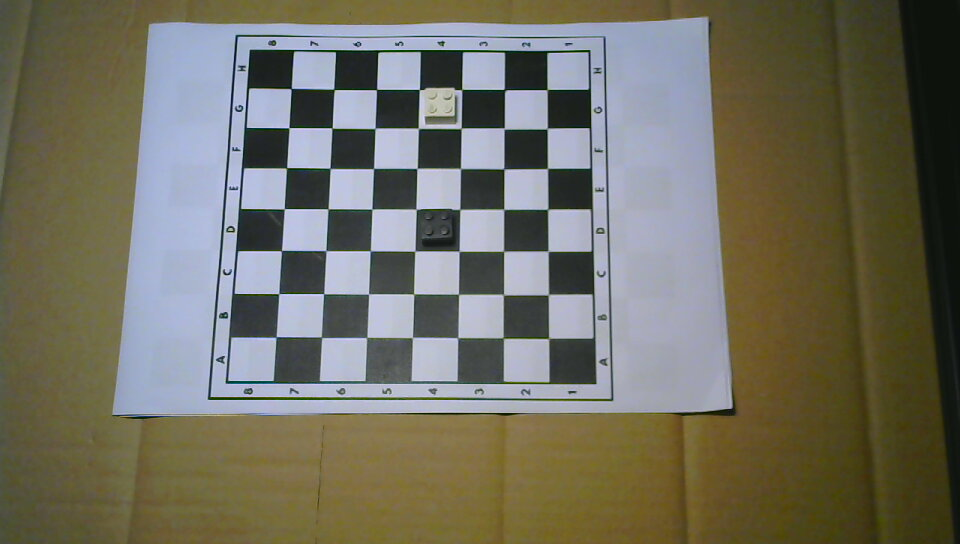bp: (419, 209, 455, 248)
wp: (421, 86, 457, 127)
